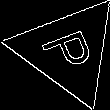P_E: (36, 24, 100, 77)
